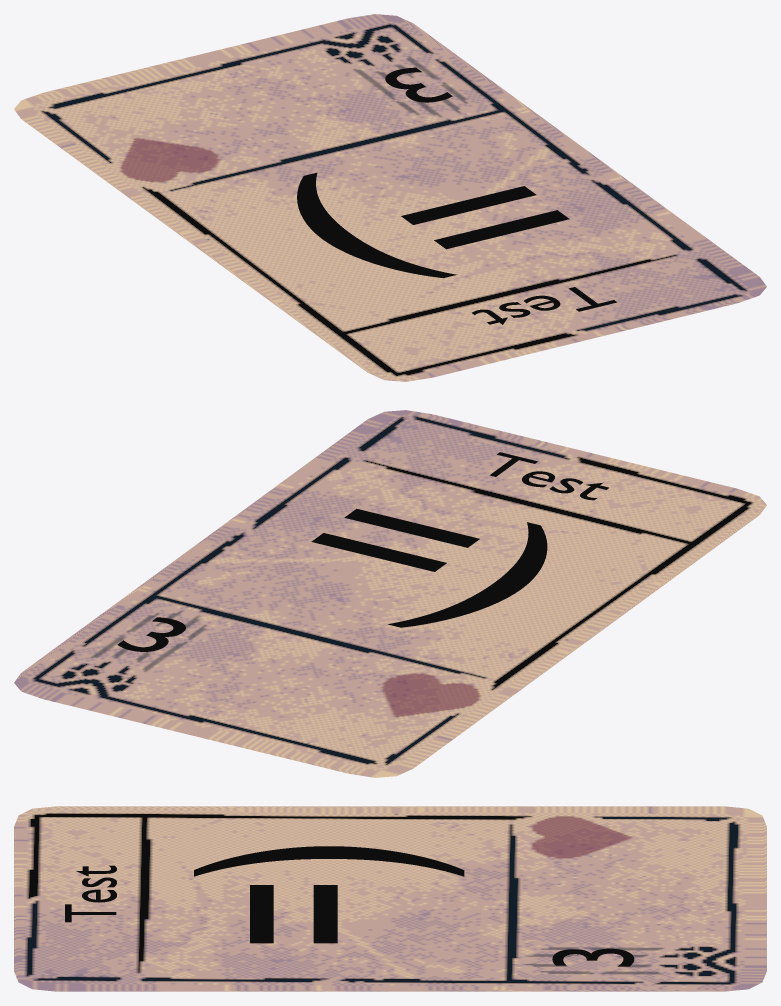
The model's file is card_hitbox.glb.
The picture shows the model from 3 angles, top to bottom: view 1: azimuth 30°, elevation 25°; view 2: azimuth 150°, elevation 25°; view 3: azimuth 270°, elevation 25°; orthographic projection. The views are drawn at different scales.
Parts seen in each view (by area): view 1: card.001, Text.002, Test, Text.001; view 2: card.001, Text.002, Test, Text.001; view 3: card.001, Text.002, Test, Text.001.
Boxes of the visible parts, x1,y1,x2,y2 form: card.001: [14, 14, 766, 381]; Text.002: [297, 172, 569, 278]; Test: [472, 287, 616, 324]; Text.001: [385, 67, 452, 102]; card.001: [14, 410, 766, 777]; Text.002: [311, 508, 547, 627]; Test: [489, 452, 608, 500]; Text.001: [117, 617, 185, 651]; card.001: [14, 806, 766, 991]; Text.002: [194, 846, 464, 943]; Test: [65, 865, 116, 922]; Text.001: [552, 948, 634, 966].
Size of what is drawn, in the model's own units: 44.93 by 0.6623 by 77.22.
Materials: 3 (1 with a texture image).
